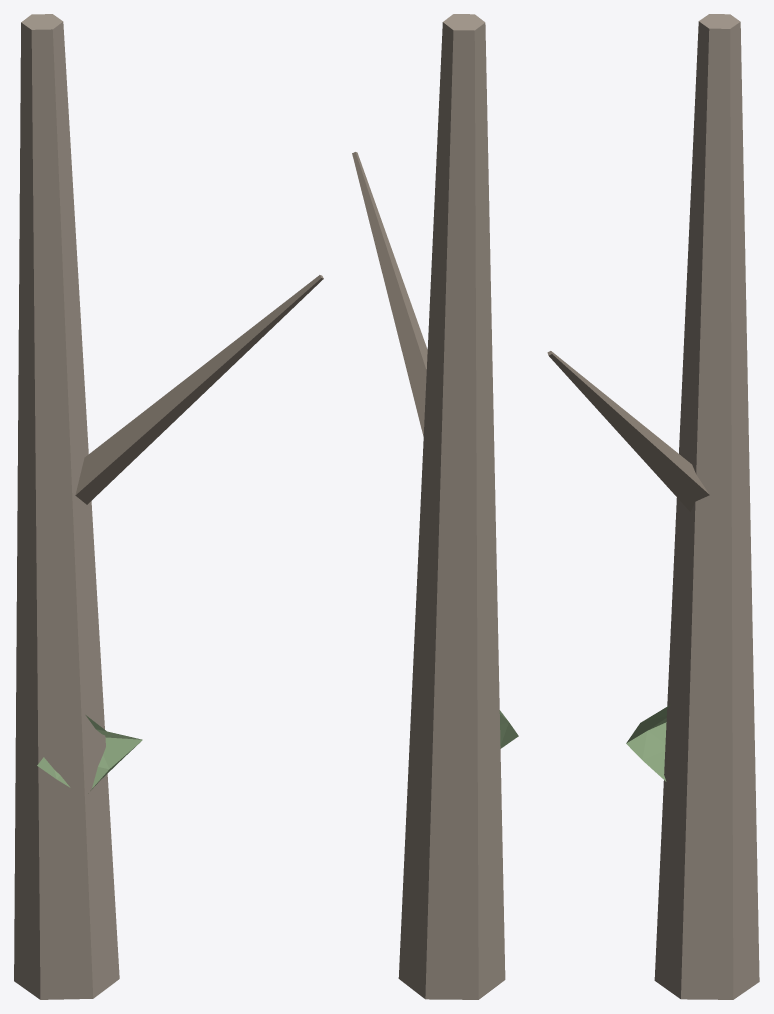
Rendered from snag_v01.glb.
3 renders of one model, left to right at view 1: azimuth 30°, elevation 25°; view 2: azimuth 150°, elevation 25°; view 3: azimuth 270°, elevation 25°, orthographic.
Visible parts, largest first — view 1: lod0; view 2: lod0; view 3: lod0.
Part boxes in pixels (x1,y1,x2,y2): lod0: [14, 14, 323, 999]; lod0: [352, 14, 518, 999]; lod0: [547, 14, 759, 999].
Size of what is drawn, in the model's own units: 0.714 by 2.9 by 0.5864.
